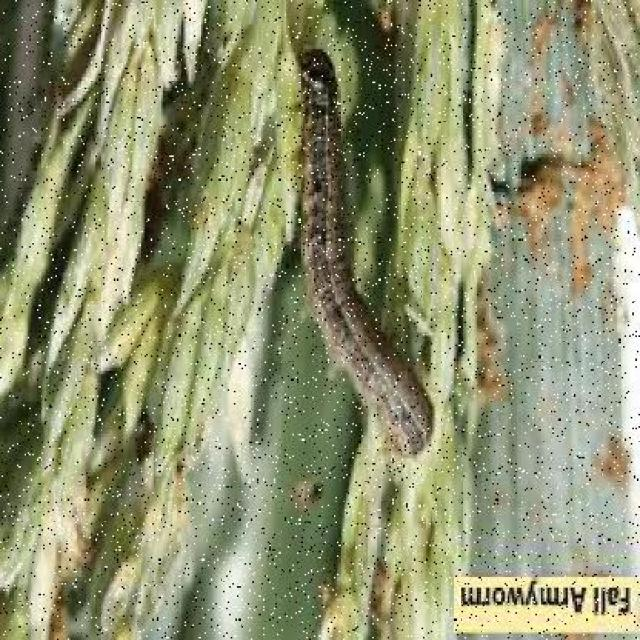Plaga: (256, 33, 441, 477)
